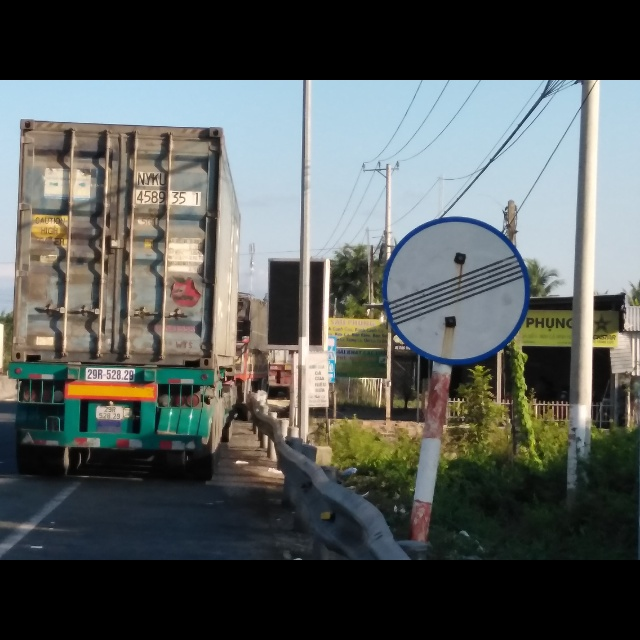Hết tất cả các lệnh cấm: (376, 213, 535, 364)
